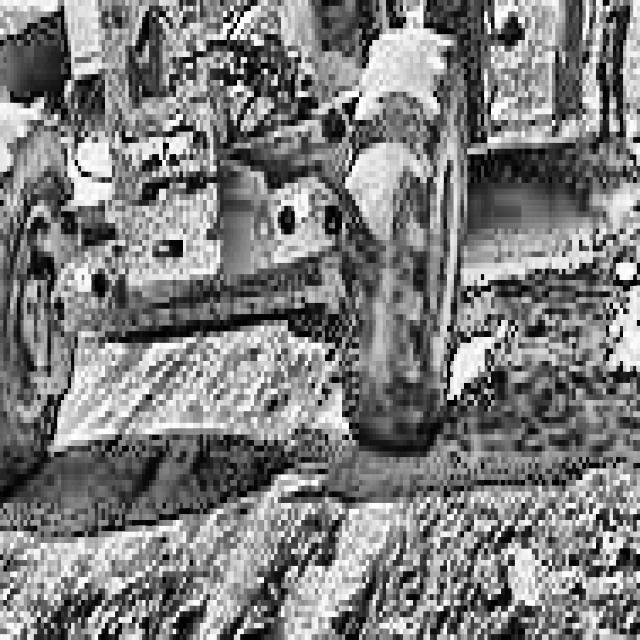buldozerpayloadergrader: (0, 0, 613, 486)
